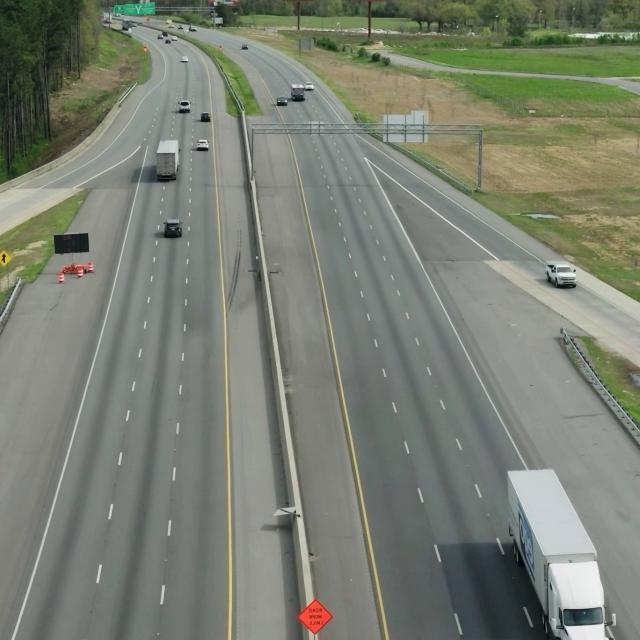Vehicle: (495, 464, 620, 640), (150, 139, 178, 182), (540, 260, 578, 290), (161, 216, 183, 242), (194, 139, 208, 152)
